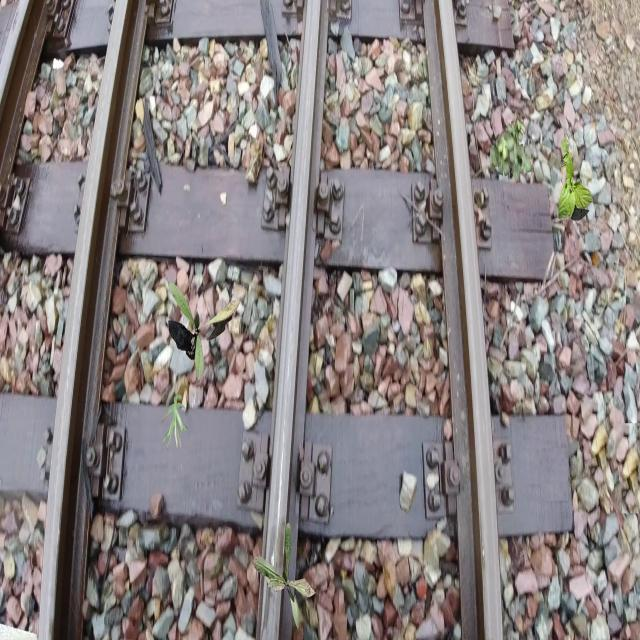Plant: (168, 282, 240, 382), (252, 523, 316, 635), (558, 138, 594, 222), (489, 117, 532, 184), (161, 393, 188, 450)
